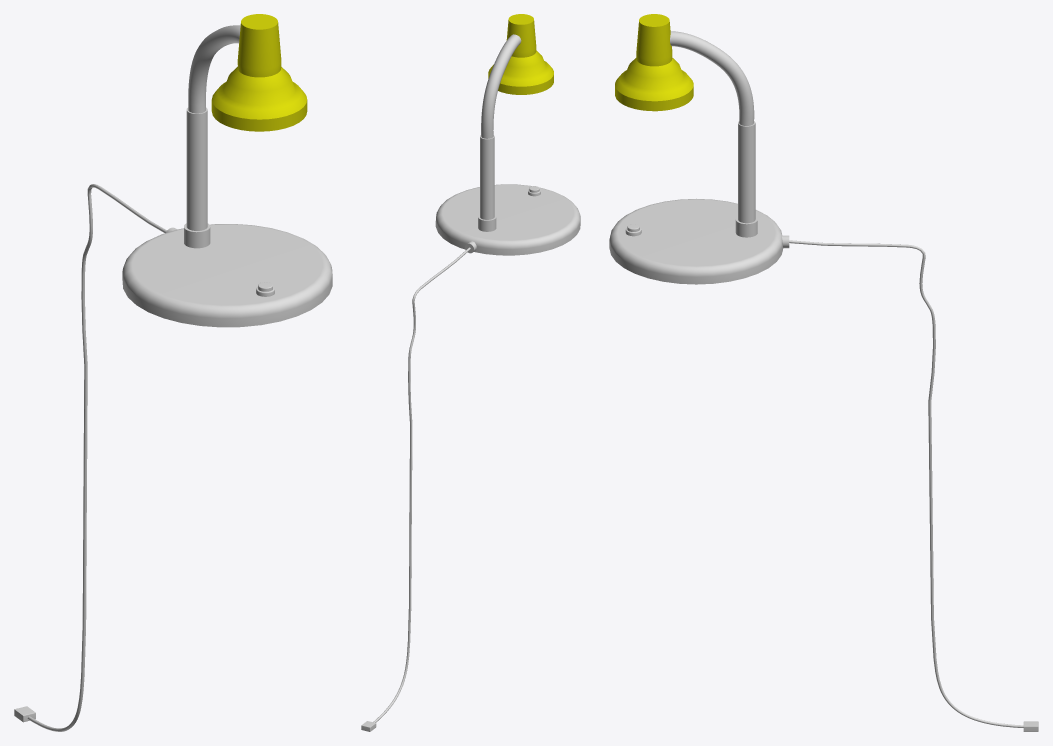
The model's file is DeskLamp.fbx.
3 renders of one model, left to right at view 1: azimuth 30°, elevation 25°; view 2: azimuth 150°, elevation 25°; view 3: azimuth 270°, elevation 25°, orthographic. The views are drawn at different scales.
Parts seen in each view (by area): view 1: Lamp, LampHead, BaseArm, PowerCable, BendArm; view 2: Lamp, LampHead, PowerCable, BaseArm, BendArm; view 3: Lamp, LampHead, PowerCable, BaseArm, BendArm.
Boxes of the visible parts, x1,y1,x2,y2 form: Lamp: (122,224,332,327); LampHead: (211,14,307,131); BaseArm: (184,107,210,248); PowerCable: (27,184,166,731); BendArm: (188,25,240,113); Lamp: (435,184,580,255); LampHead: (488,14,553,94); PowerCable: (373,247,470,722); BaseArm: (478,135,496,231); BendArm: (481,34,521,138); Lamp: (609,198,783,284); LampHead: (615,14,693,111); PowerCable: (789,240,1023,727); BaseArm: (735,121,757,237); BendArm: (670,31,754,125).
Size of the model in its own units: 5.68 by 25.61 by 14.
